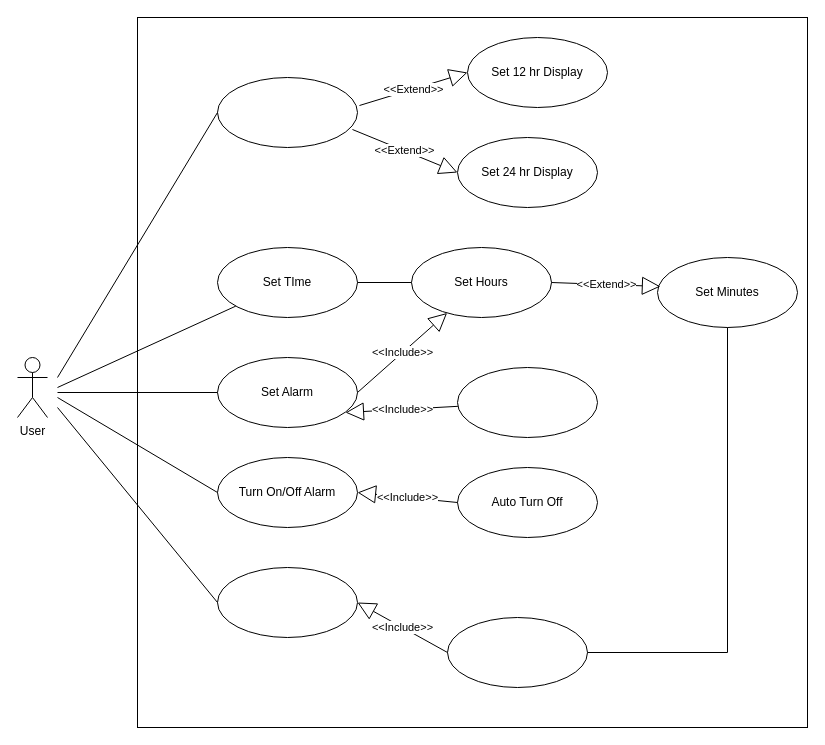
The diagram is 825 pixels wide and 745 high, and some of its shapes have lost their labels. The centre of each missing label's shape, as x and y in pixels:
Alarm Sound: pixel 527 402
Choose Display: pixel 287 112
Snooze Alarn: pixel 287 602
Snooze TIme: pixel 517 652
